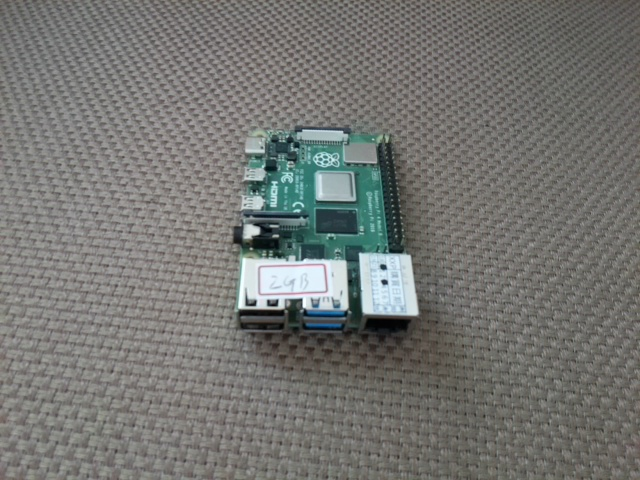Pi4: (225, 113, 425, 338)
